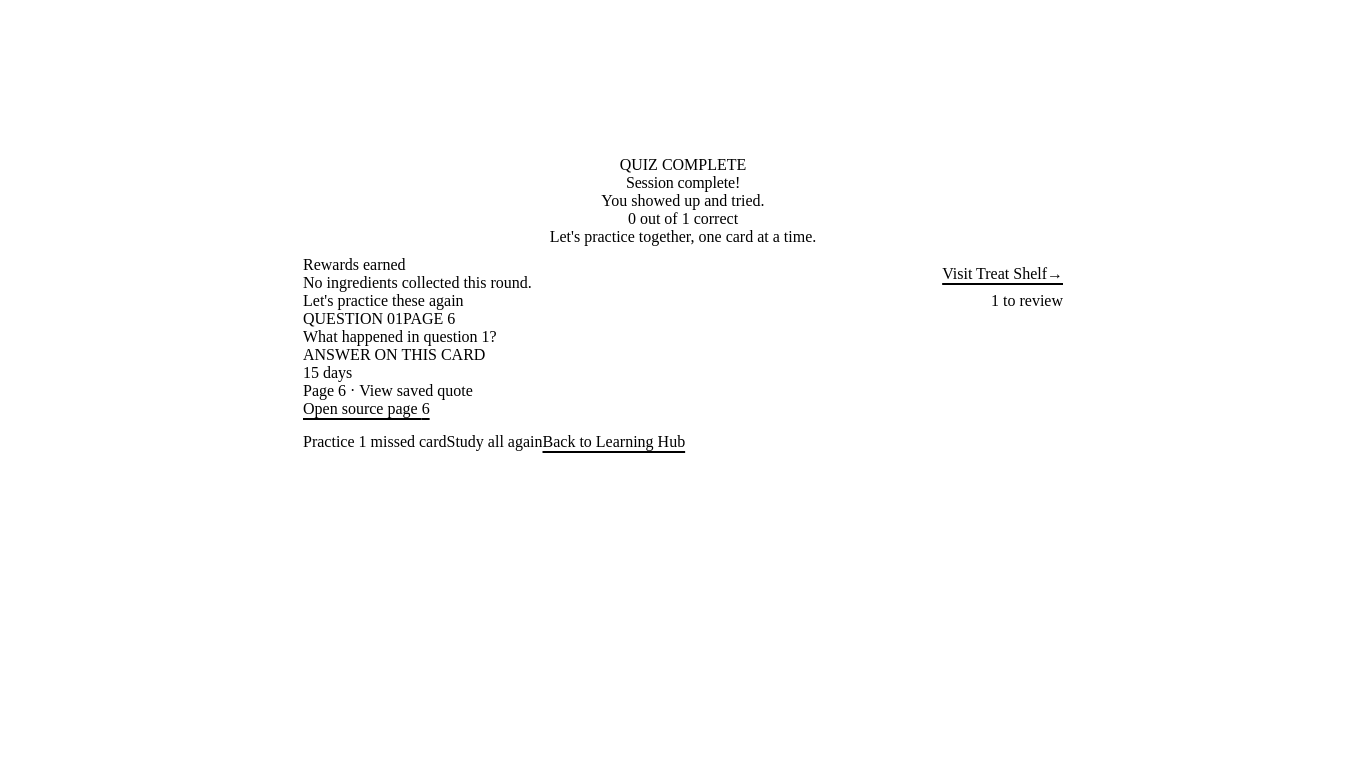
QuizResults › shows the saved answer text and hides the source quote until opened
Check: the text "15 days" is shown, box [303,364,352,381]
Click the button "Open source page 6". click: (366, 409)
box: [303,400,430,418]
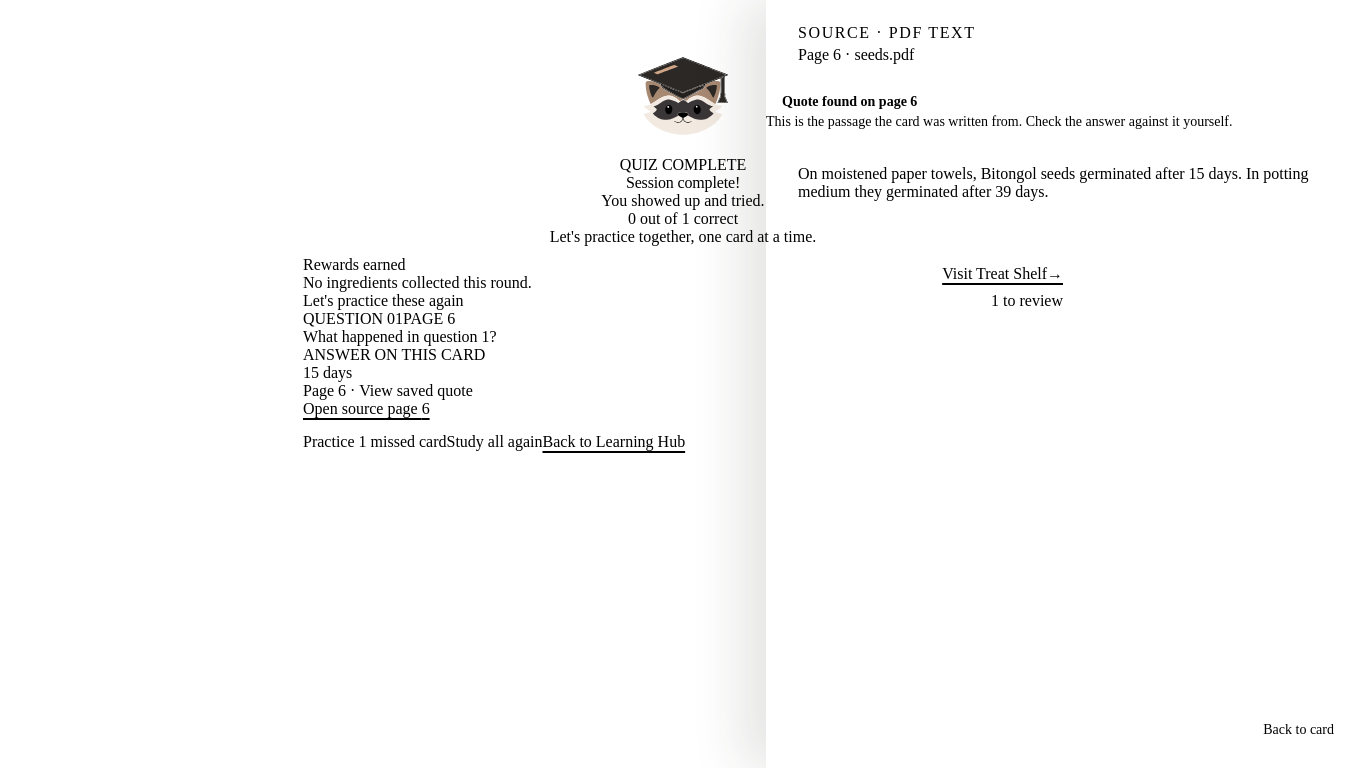
Check: the dialog is shown, box [766,0,1365,767]
Check: the heading "Page 6 · seeds.pdf" is shown, box [798,46,914,63]
